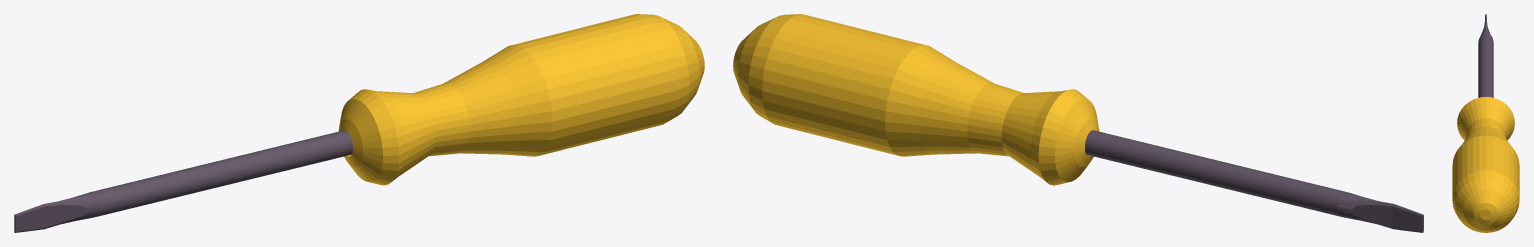
Rendered from Chave de fenda PRONTO.fbx.
3 views of the same model, side by side, from view 1: azimuth 30°, elevation 25°; view 2: azimuth 150°, elevation 25°; view 3: azimuth 270°, elevation 25° (orthographic). The views are drawn at different scales.
Visible parts, largest first — view 1: Chave de Fenda; view 2: Chave de Fenda; view 3: Chave de Fenda.
Boxes of the visible parts, x1,y1,x2,y2 form: Chave de Fenda: [14, 14, 704, 232]; Chave de Fenda: [733, 14, 1423, 232]; Chave de Fenda: [1452, 14, 1519, 232].
Bounding box in the file's own units: 458 × 67.07 × 66.49.
